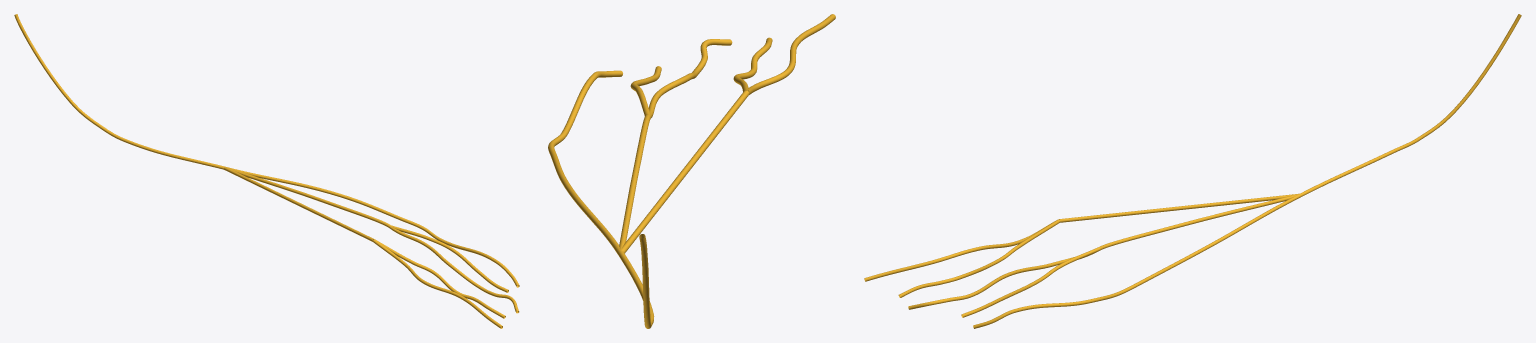
File: nervoso-lateral-plantar-nerve-l.glb
The picture shows the model from 3 angles, left to right: view 1: azimuth 30°, elevation 25°; view 2: azimuth 150°, elevation 25°; view 3: azimuth 270°, elevation 25°; orthographic projection. The views are drawn at different scales.
Visible parts, largest first — view 1: Proper plantar digital branches of lateral plantar nerve.l, Common plantar digital branches of lateral plantar nerve.l, Lateral plantar nerve.l; view 2: Proper plantar digital branches of lateral plantar nerve.l, Common plantar digital branches of lateral plantar nerve.l, Lateral plantar nerve.l; view 3: Proper plantar digital branches of lateral plantar nerve.l, Common plantar digital branches of lateral plantar nerve.l, Lateral plantar nerve.l.
Part boxes in pixels (x1=…): Proper plantar digital branches of lateral plantar nerve.l: x1=372, y1=221, x2=519, y2=328; Common plantar digital branches of lateral plantar nerve.l: x1=223, y1=166, x2=411, y2=241; Lateral plantar nerve.l: x1=14, y1=14, x2=224, y2=169; Proper plantar digital branches of lateral plantar nerve.l: x1=548, y1=14, x2=835, y2=150; Common plantar digital branches of lateral plantar nerve.l: x1=549, y1=90, x2=749, y2=254; Lateral plantar nerve.l: x1=618, y1=234, x2=654, y2=328; Proper plantar digital branches of lateral plantar nerve.l: x1=864, y1=219, x2=1134, y2=328; Common plantar digital branches of lateral plantar nerve.l: x1=1059, y1=193, x2=1301, y2=287; Lateral plantar nerve.l: x1=1300, y1=14, x2=1521, y2=196.
Bounding box in the file's own units: 0.0888 × 0.0511 × 0.1741.
